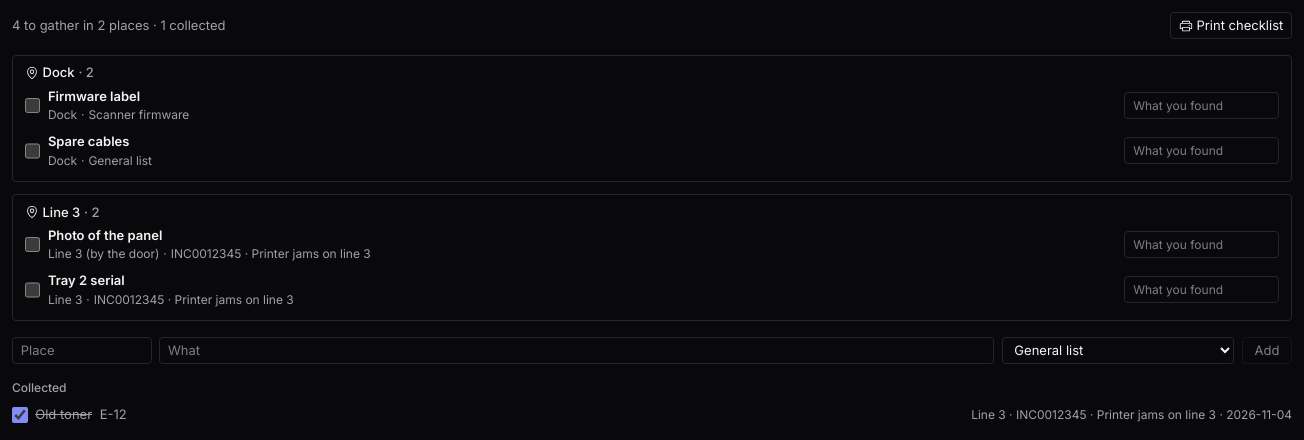
Test: FloorView › test ticking an item row collects it through workFloor and the row vanishes
Type "SN-77" into the field with placeholder "What you found" in the row of "Tray 2 serial".
click(1202, 290); type("SN-77")  # box [1124,276,1279,303]
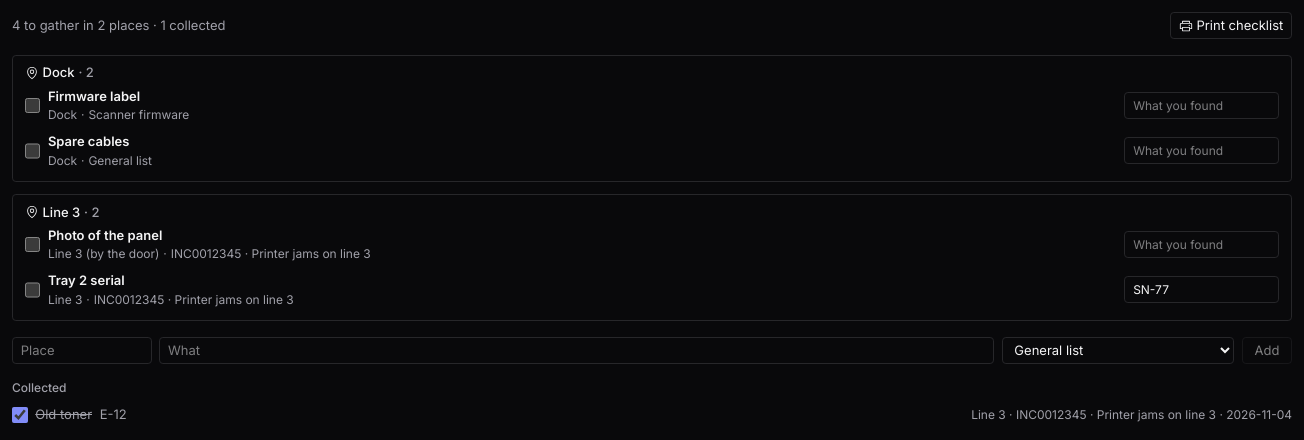
Click the checkbox named "Tray 2 serial".
click(32, 290)  # box [25,282,40,298]
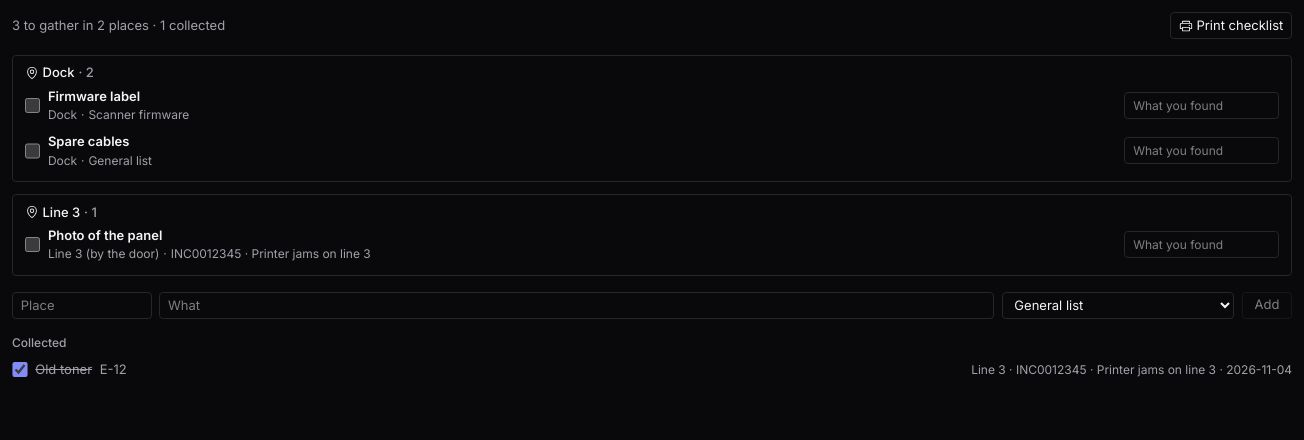
Now the text "Tray 2 serial" is gone
